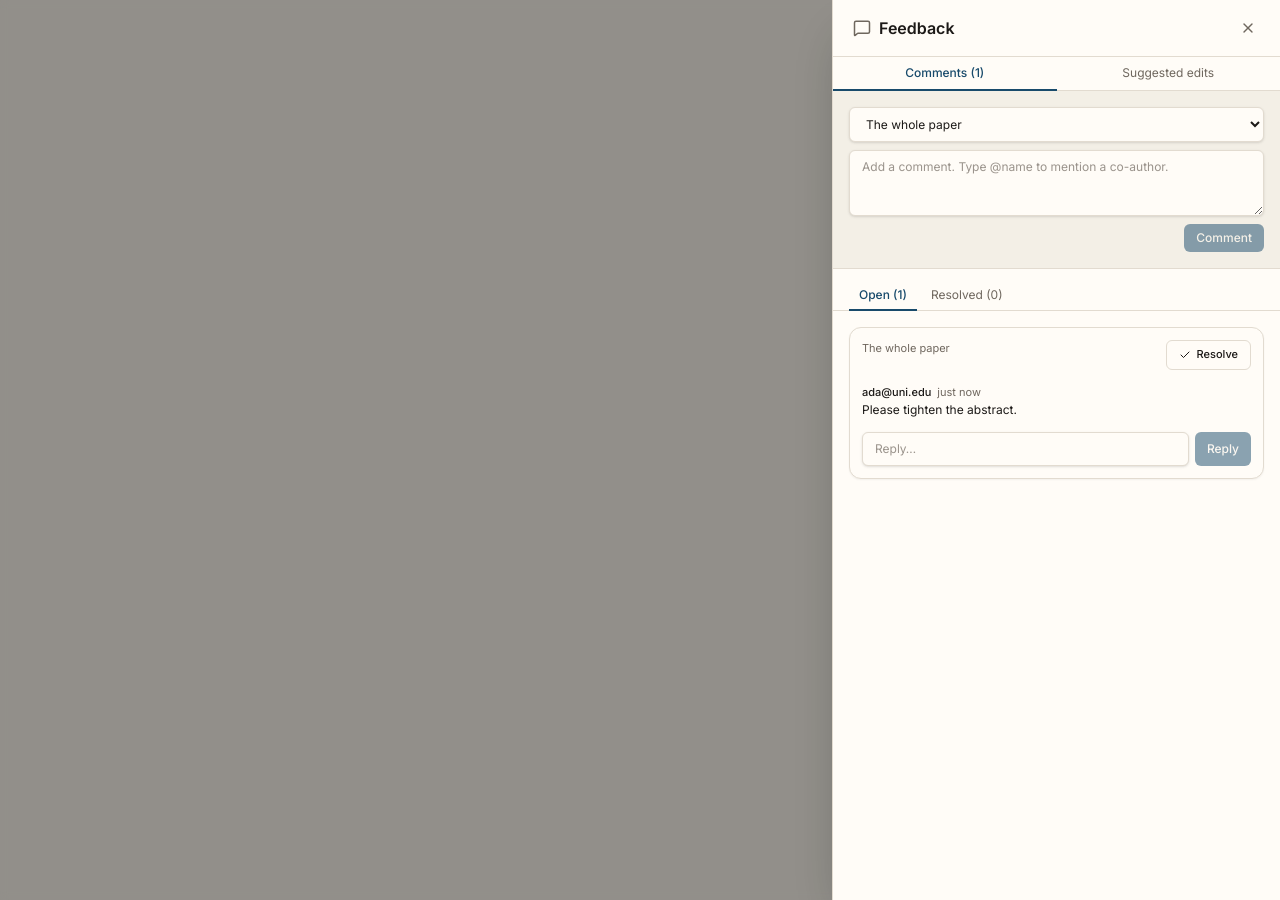
Test: CommentsPanel › posts a comment anchored to a section, with mentions resolved to people
Check: the text "ada@uni.edu" is shown, box [862,384,931,400]
Select "§ Introduction" in the dropdown named "What this comment is about" at (1056, 124), box [849,107,1264,142]
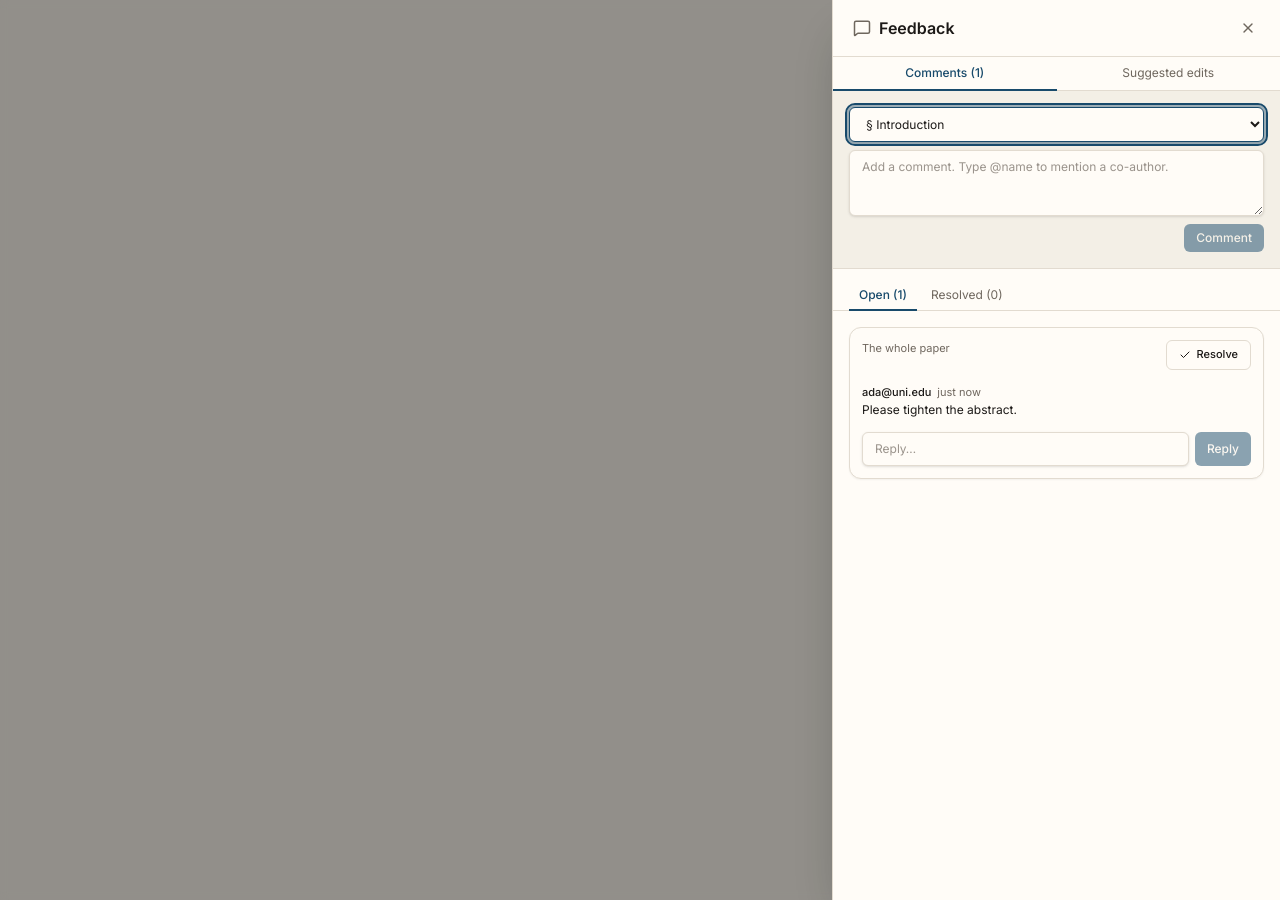
Type "@ada can you check this?" into the text box named "New comment".
click(1056, 183); type("@ada can you check this?")  # box [849,150,1264,216]
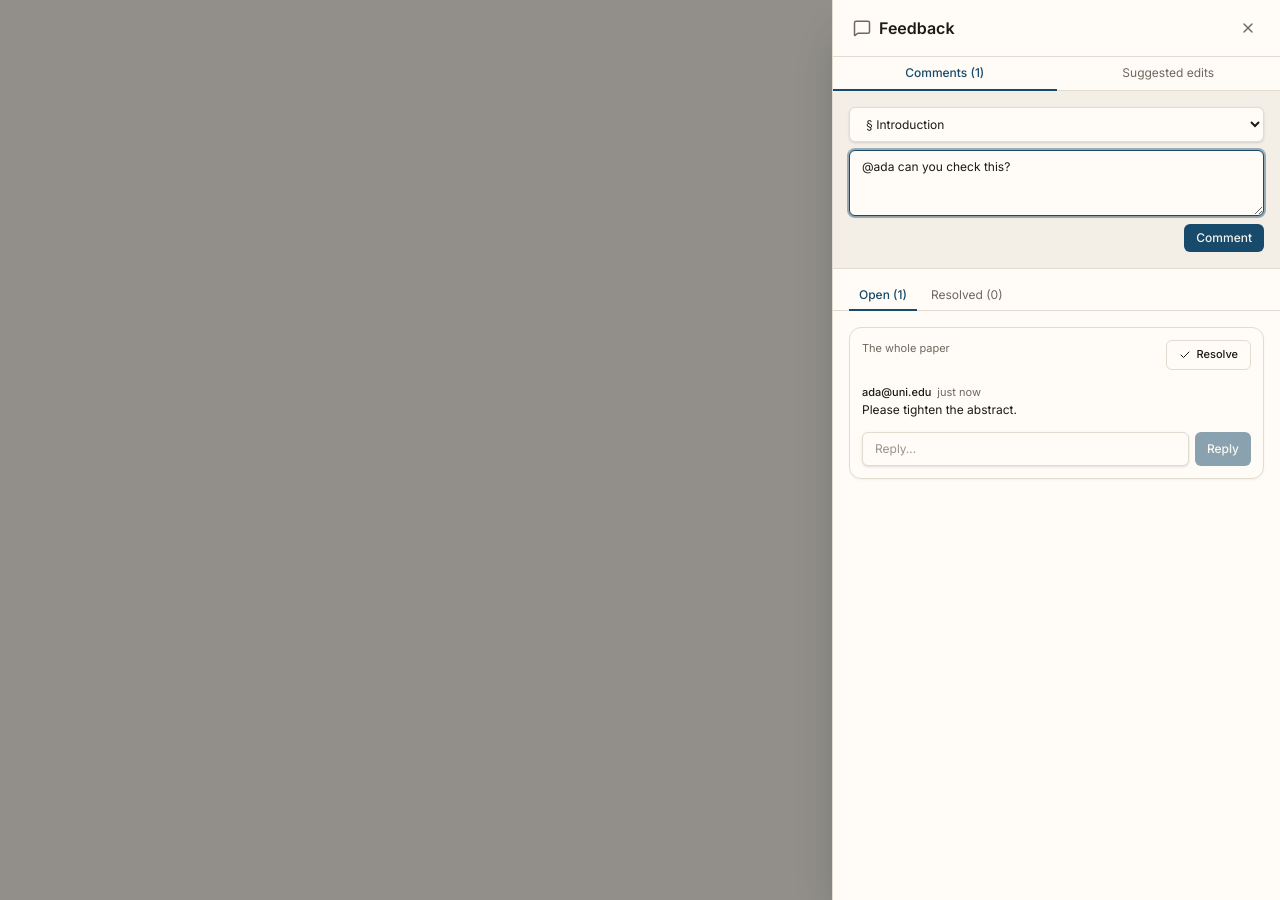
Click the button "Comment".
click(1224, 238)  # box [1184,224,1264,252]
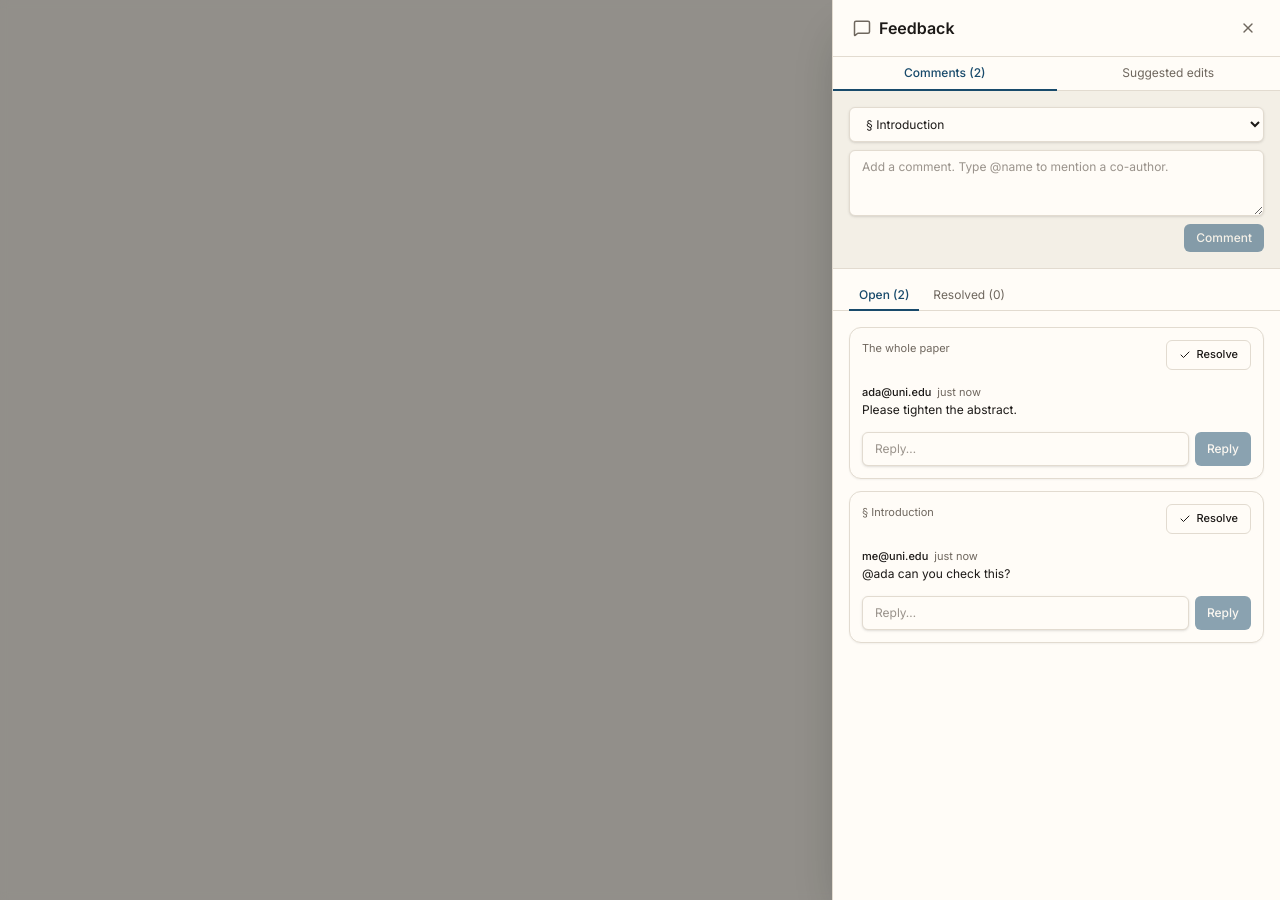
Check: the text "@ada can you check this?" is shown, box [862,566,1010,581]
Check: the text box named "New comment" is empty, box [849,150,1264,216]
